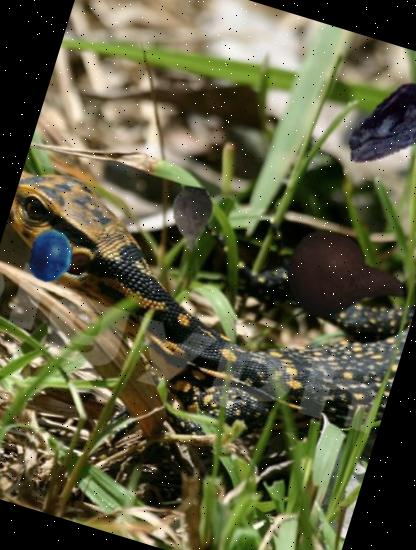Beetroot: (148, 176, 234, 262)
Dates: (323, 51, 416, 195)
Huckleberry: (18, 223, 85, 290)
Pear: (266, 199, 416, 356)
